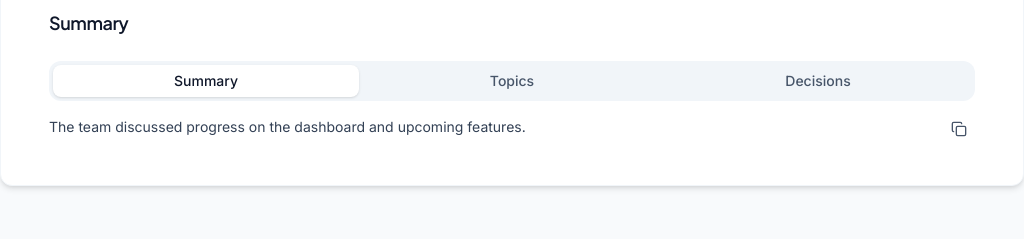
Test: SummaryPanel › should show empty state for decisions when none exist
This screenshot has width=1024, height=239.
Click the tab "Decisions": (818, 81) x1=665 y1=65 x2=971 y2=97
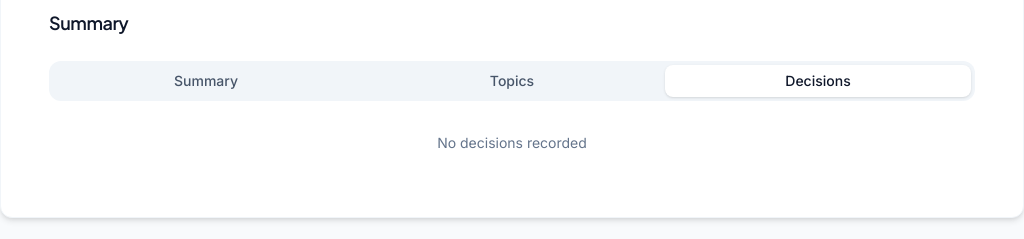
Now the text "No decisions recorded" is shown, box x1=437 y1=134 x2=587 y2=151
